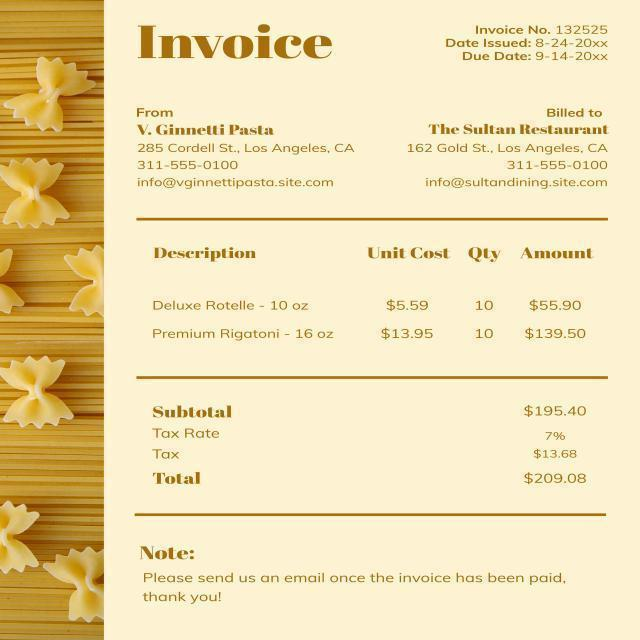paragraph: (152, 398, 595, 492), (138, 542, 573, 613), (129, 105, 362, 191), (399, 106, 618, 192), (437, 19, 619, 71), (129, 25, 343, 66)
table: (133, 215, 605, 375)
